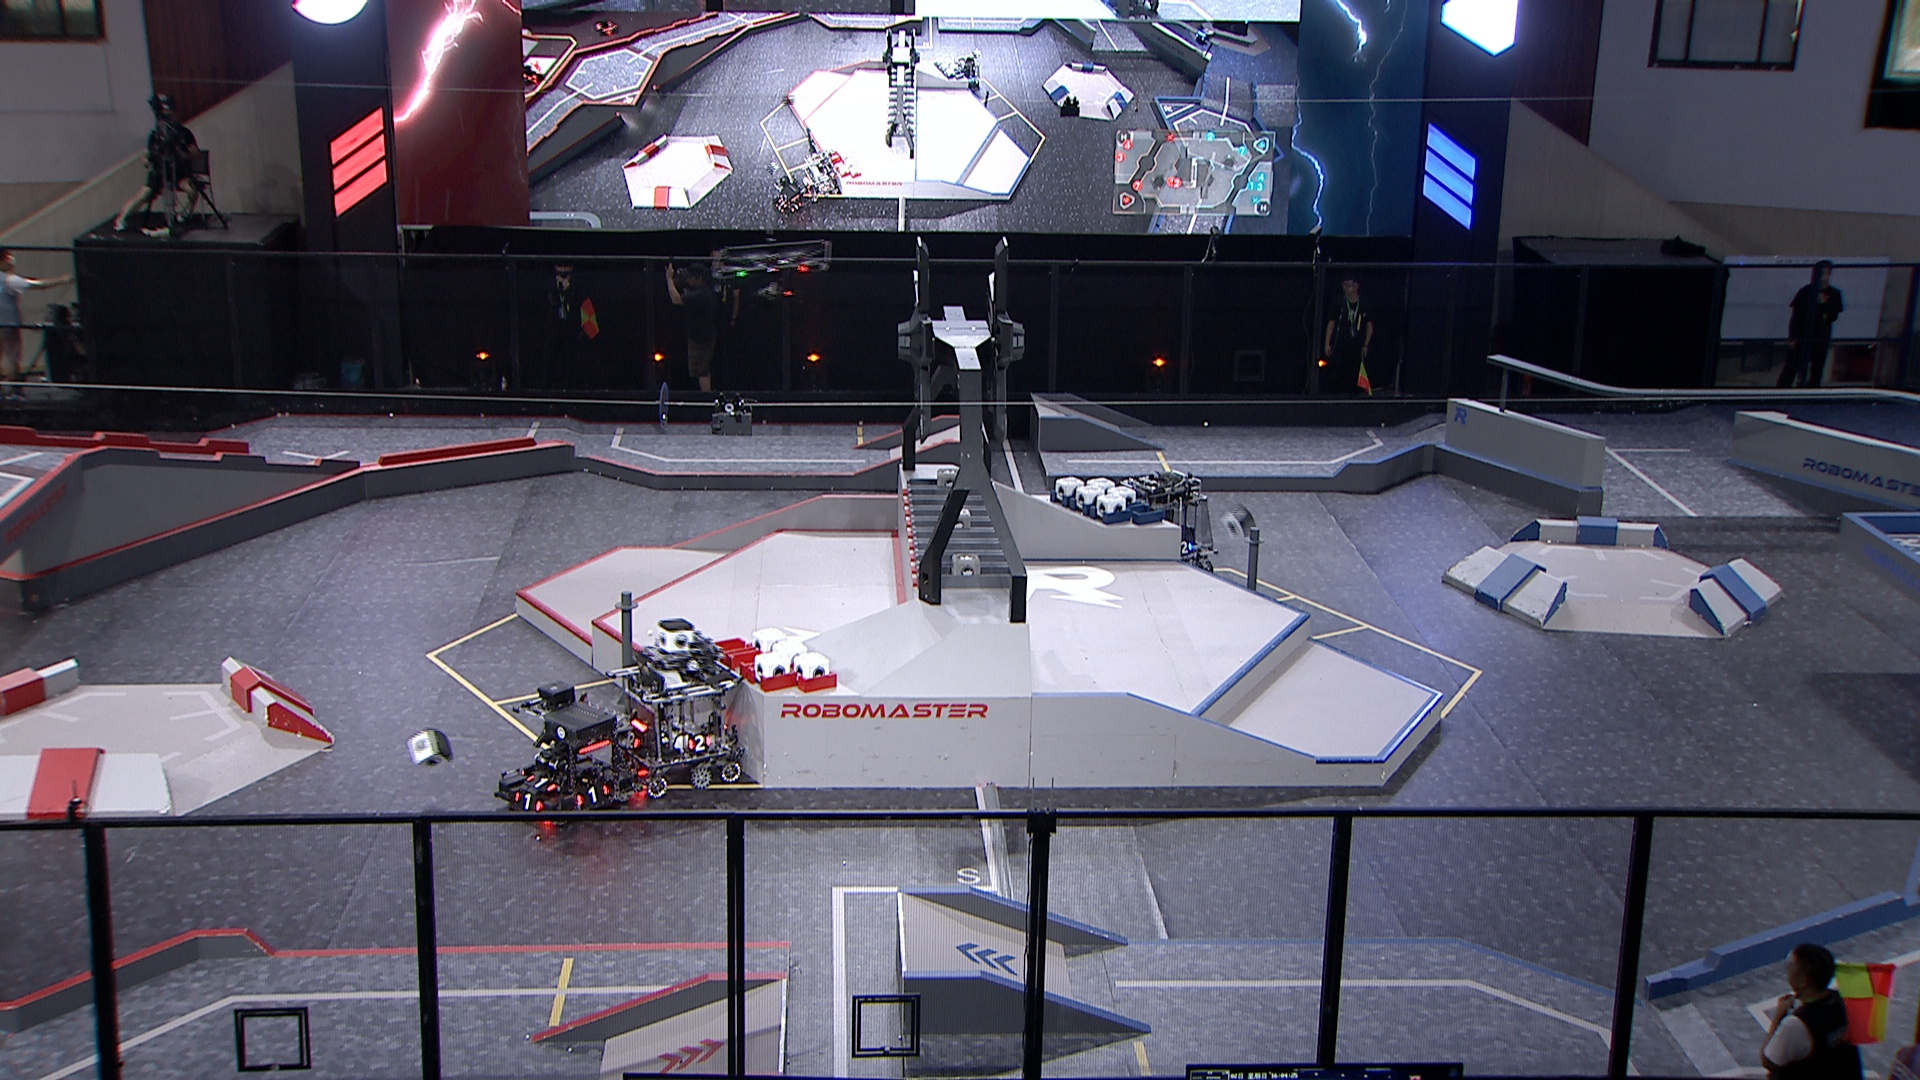armor: (513, 790, 542, 812), (578, 785, 609, 804), (527, 774, 556, 793), (688, 735, 713, 752), (1176, 541, 1195, 556), (624, 733, 640, 749)
car: (603, 626, 754, 796), (495, 698, 636, 823), (1121, 467, 1225, 576)
ignore: (794, 146, 844, 202), (770, 173, 808, 214), (945, 51, 984, 91), (520, 62, 550, 96), (593, 16, 621, 40), (1191, 25, 1212, 44)
